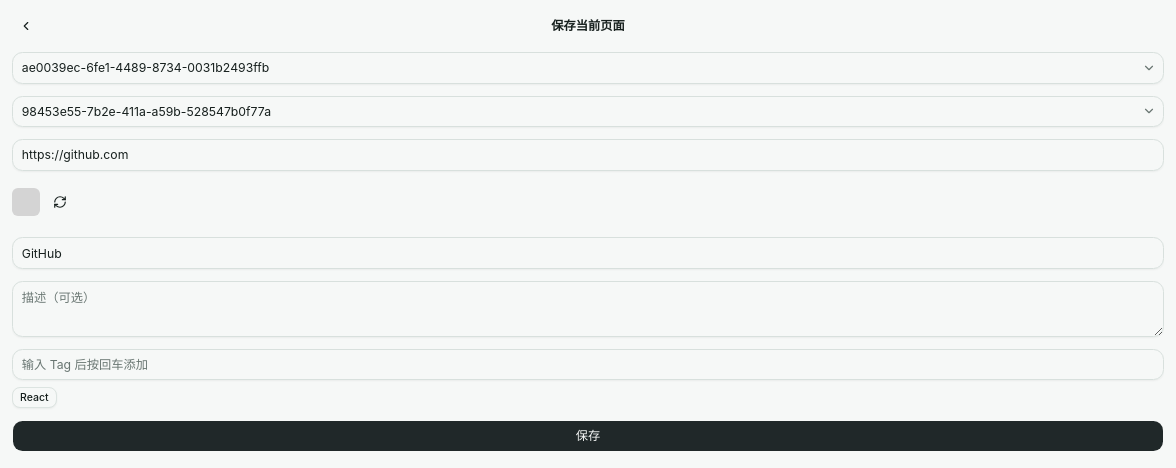
Test case: SaveBookmarkView › 切换 Workspace 后更新 Tag 建议源
Expected: the field showing "https://github.com" is shown, [12, 139, 1164, 170]
Expected: the button "React" is shown, [12, 387, 56, 408]
Click the dropdown named "工作区" at (146,68), box [12, 52, 1164, 84]
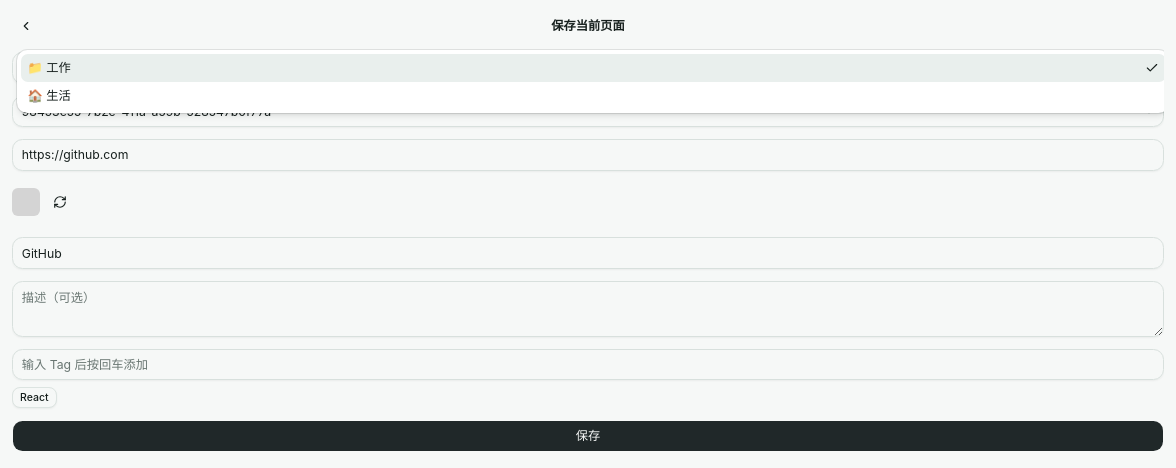
Click the option "🏠 生活" at (49,96), box [28, 88, 71, 103]
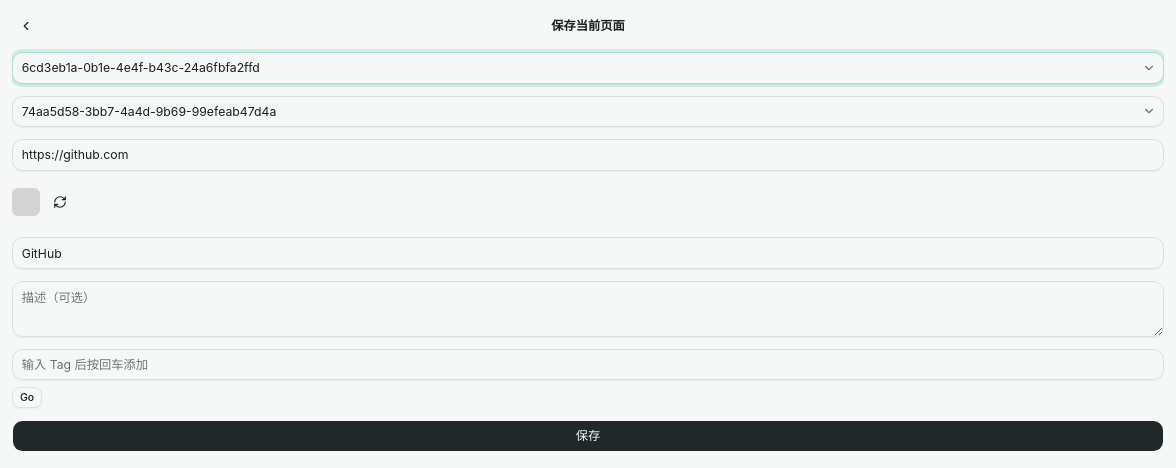
Expected: the button "Go" is shown, [12, 387, 42, 408]
Expected: the button "React" is gone
